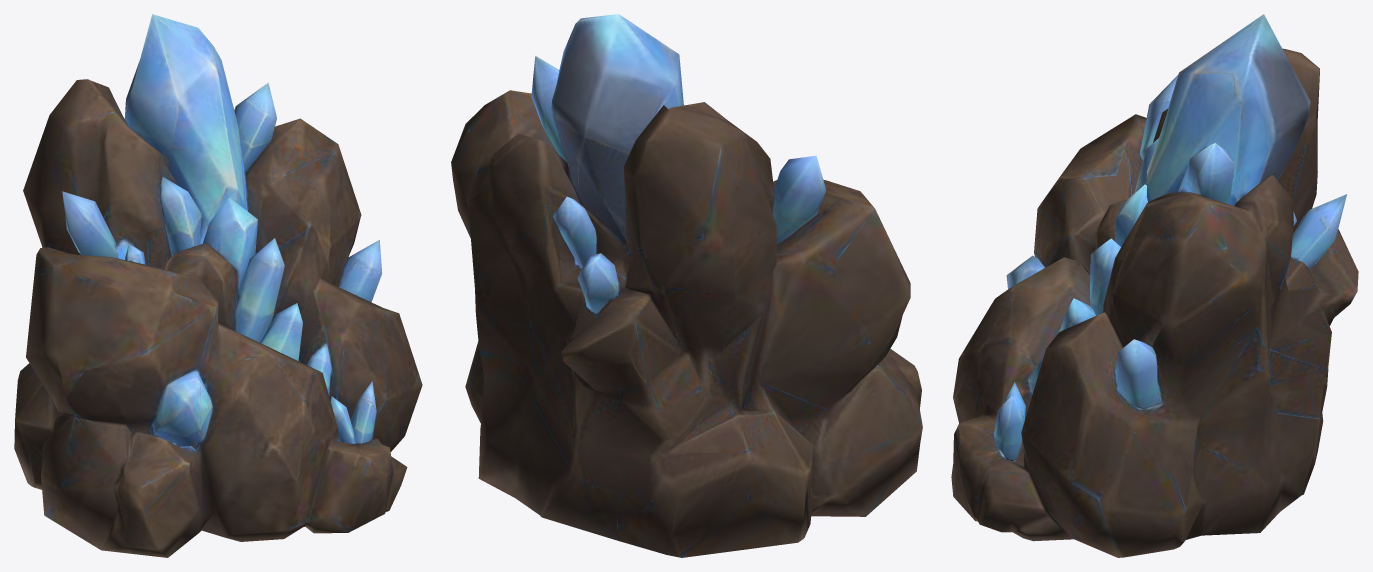
The model's file is filon_cristal.glb.
3 renders of one model, left to right at view 1: azimuth 30°, elevation 25°; view 2: azimuth 150°, elevation 25°; view 3: azimuth 270°, elevation 25°, orthographic. The views are drawn at different scales.
Size of the model in its own units: 0.853 by 0.9531 by 0.771.
1 material, 1 textured.
